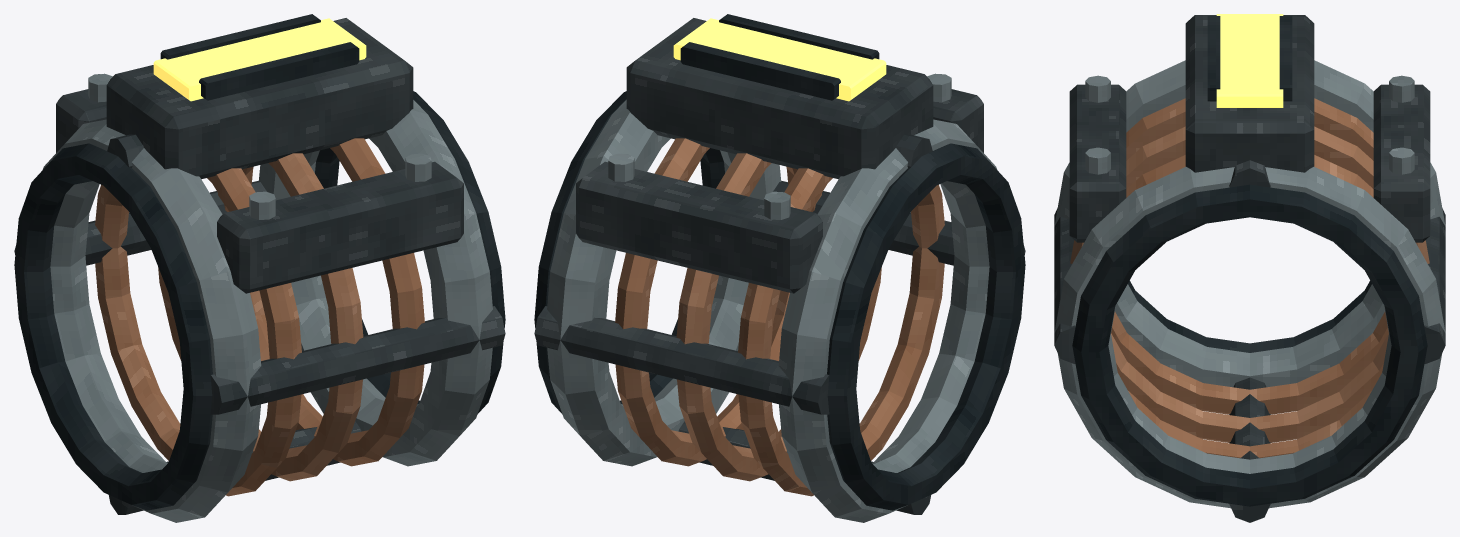
File: capacitor_coil.glb
3 renders of one model, left to right at view 1: azimuth 30°, elevation 25°; view 2: azimuth 150°, elevation 25°; view 3: azimuth 270°, elevation 25°, orthographic. The views are drawn at different scales.
Visible parts, largest first — view 1: capacitor_coil; view 2: capacitor_coil; view 3: capacitor_coil.
Part boxes in pixels (box(x1,y1,x2,y2)): capacitor_coil: box(14, 14, 505, 522); capacitor_coil: box(534, 14, 1025, 522); capacitor_coil: box(1054, 14, 1445, 522).
Bounding box in the file's own units: 0.1321 × 0.1745 × 0.152.
5 materials, 4 textured.
